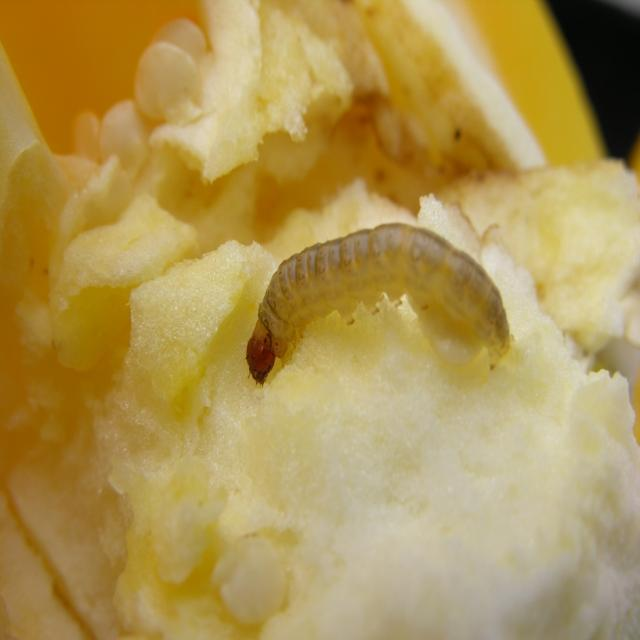cornborer-Larva-: (244, 218, 514, 402)
